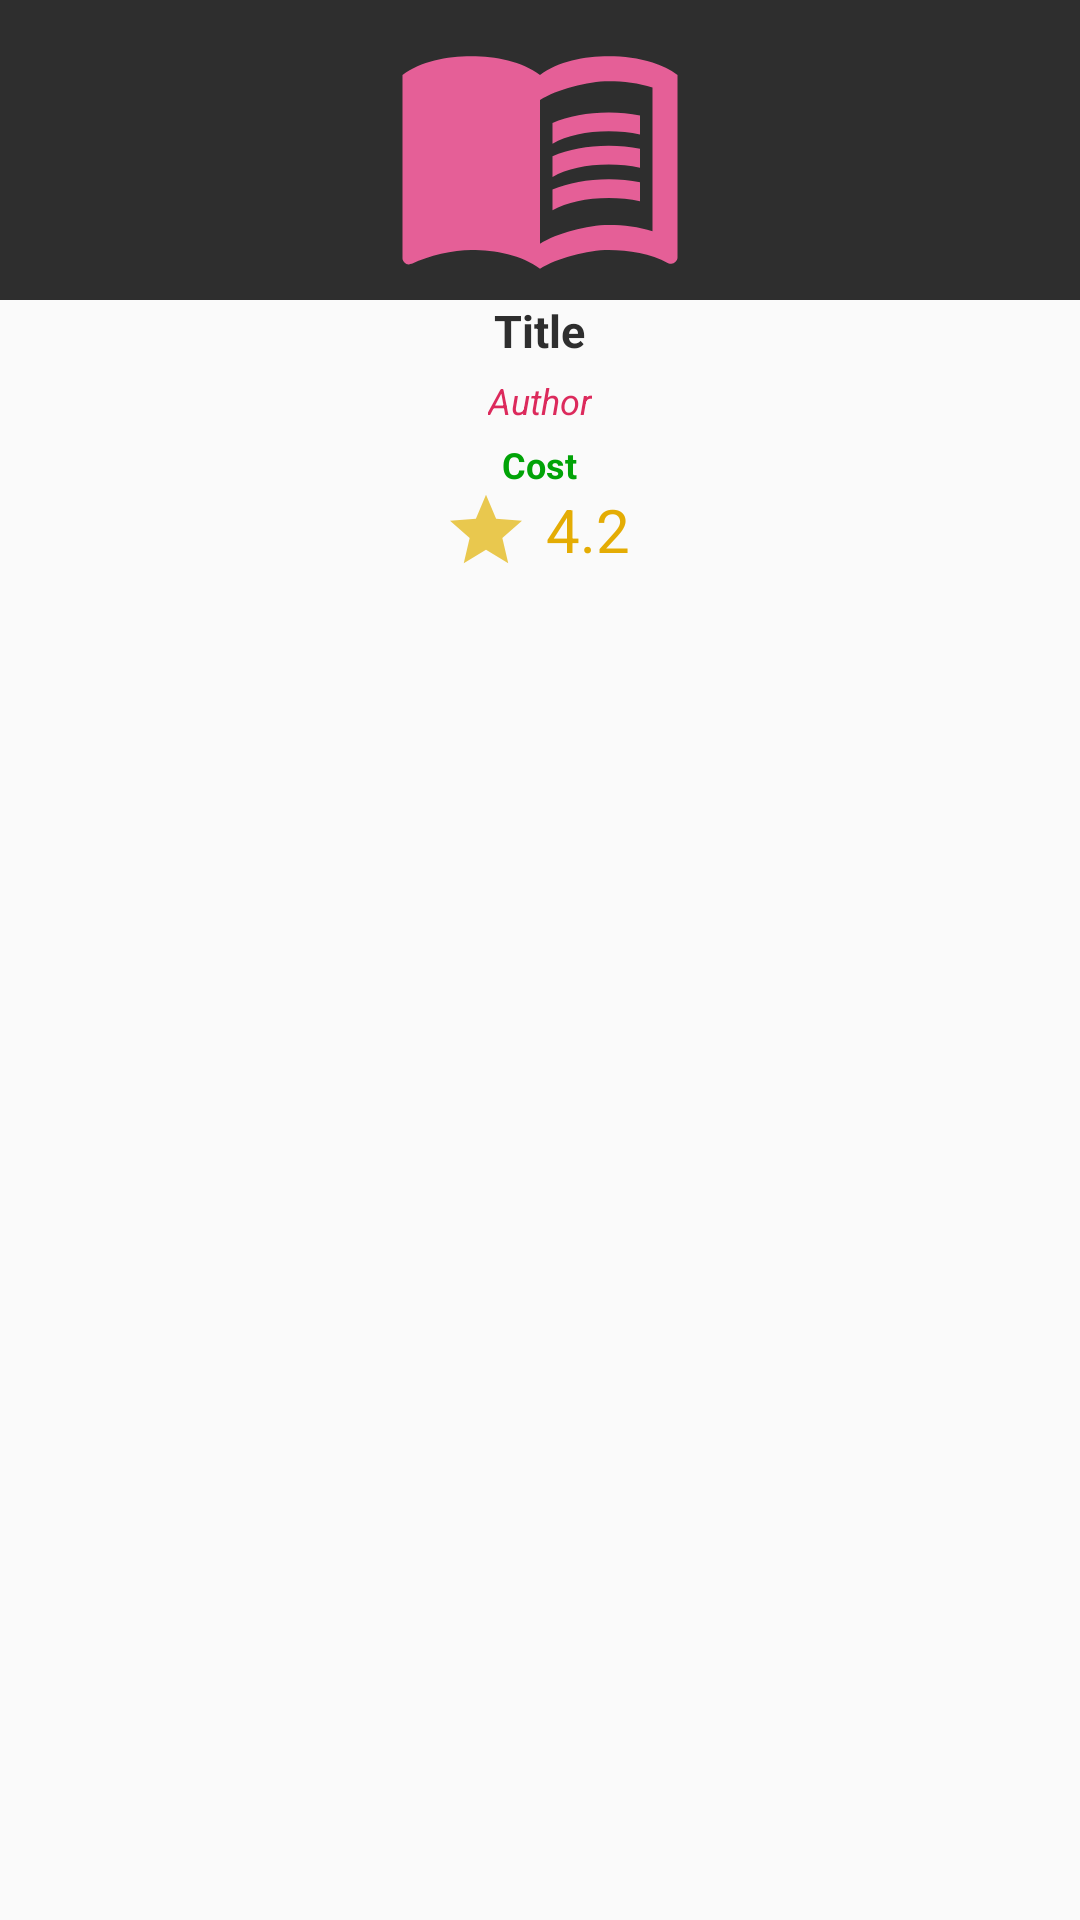

Screen size 1080*1920. Icon name, then its center in pixels as point (x, y):
Rating: point (486, 529)
